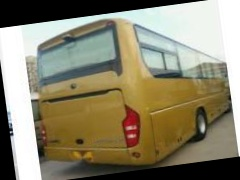bus: (27, 4, 235, 179)
